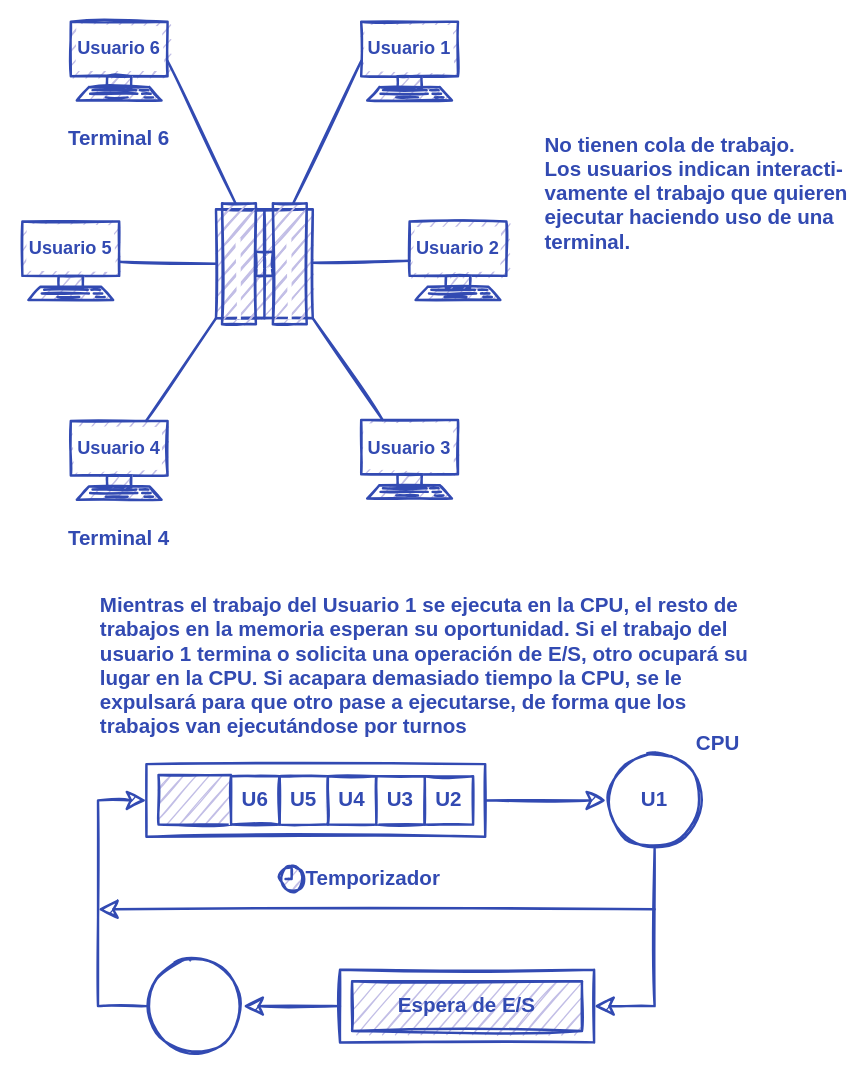
This 868x1074 diagram has some shape labels left out. The box of each missing label's shape, as (x1, y1, x2, y2) in pixels:
E/S: (145, 956, 244, 1055)
Terminal 1: (359, 20, 459, 101)
Terminal 2: (408, 220, 507, 301)
Terminal 3: (359, 418, 459, 499)
Terminal 5: (21, 220, 120, 301)
